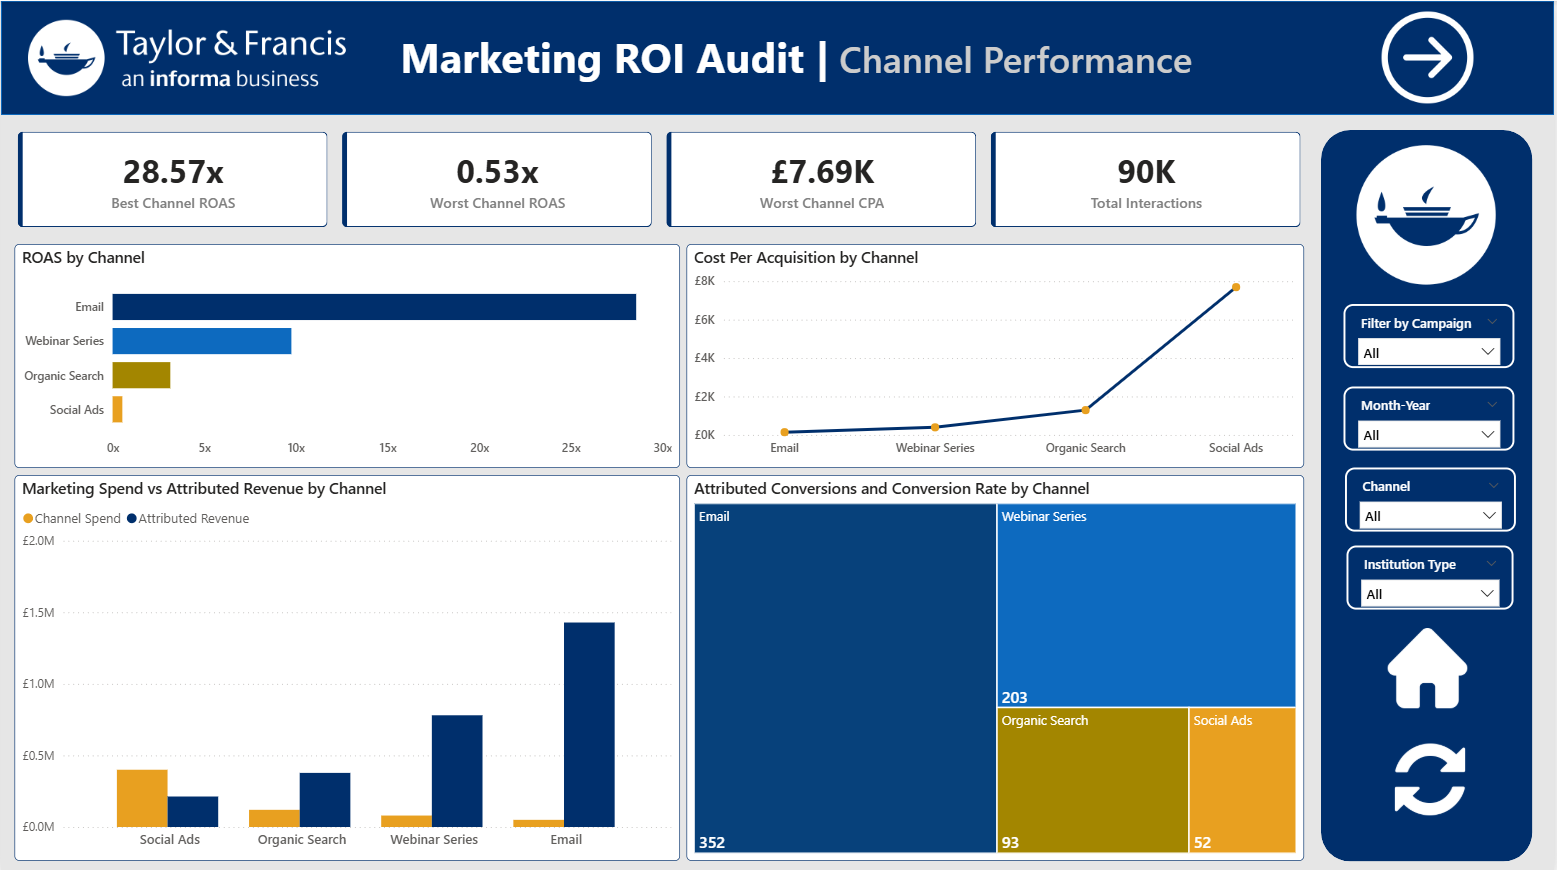

Layout of this report page (visuals, bound fields, positions):
{"tool":"powerbi","page":{"name":"Channel Performance","canvas":[1600,900],"ordinal":1},"visuals":[{"type":"shape","box":[0,0,1599.4,117.4],"z":0},{"type":"shape","box":[1359,132.5,217.7,753.3],"z":1000},{"type":"slicer","fields":{"Values":["interactions.channel"]},"box":[1383.6,480.8,176,66.2],"z":2000},{"type":"slicer","fields":{"Values":["Date_Table.Month-Year"]},"box":[1381.7,397.5,176,66.2],"z":3000},{"type":"slicer","fields":{"Values":["authors.institution_type"]},"box":[1385.5,560.3,172.2,66.2],"z":4000},{"type":"cardVisual","fields":{"Data":["_Measures.Best Channel ROAS","_Measures.Worst Channel ROAS","_Measures.Worst Channel CPA","_Measures.Total Interactions"]},"box":[0,117.4,1359,132.5],"z":5000},{"type":"clusteredBarChart","title":"ROAS by Channel","fields":{"Category":["submissions_attributed.last_touch_channel"],"Y":["_Measures.Channel ROAS"]},"box":[13.2,249.8,685.2,230.9],"z":6000},{"type":"clusteredColumnChart","title":"Marketing Spend vs Attributed Revenue by Channel","fields":{"Category":["submissions_attributed.last_touch_channel"],"Y":["_Measures.Channel Spend","_Measures.Attributed Revenue"]},"box":[13.2,488.3,685,397.5],"z":7000},{"type":"lineChart","title":"Cost Per Acquisition by Channel ","fields":{"Category":["submissions_attributed.last_touch_channel"],"Y":["_Measures.Channel CPA"]},"box":[706,249.8,636,230.9],"z":8000},{"type":"treemap","title":"Attributed Conversions and Conversion Rate by Channel","fields":{"Group":["submissions_attributed.last_touch_channel"],"Values":["CountNonNull(submissions_attributed.submission_id)"]},"box":[706,488.3,636,397.5],"z":9000},{"type":"slicer","fields":{"Values":["marketing_spend.campaign_id"]},"box":[1381.7,312.3,176,66.2],"z":10000},{"type":"image","box":[1377.9,147.6,181.7,143.8],"z":11000},{"type":"textbox","box":[406.9,22.7,840.4,71.9],"z":12000},{"type":"image","box":[28.4,0,327.4,117.4],"z":13000},{"type":"image","box":[1422.7,645.4,92.8,82.5],"z":14000},{"type":"image","box":[1414.4,764.9,113.4,74.2],"z":15000},{"type":"image","box":[1400.6,11.4,136.3,94.6],"z":16000}]}

Visuals, with their boxes in screenshot pixels (x1, y1, x2, y2), scaled from the page's 1600x900 canvas onto the 1557x870 screenshot:
shape: bbox(0, 0, 1556, 113)
shape: bbox(1322, 128, 1534, 856)
slicer - interactions.channel: bbox(1346, 465, 1518, 529)
slicer - Date_Table.Month-Year: bbox(1345, 384, 1516, 448)
slicer - authors.institution_type: bbox(1348, 542, 1516, 606)
cardVisual - _Measures.Best Channel ROAS x _Measures.Worst Channel ROAS: bbox(0, 113, 1322, 242)
"ROAS by Channel" clusteredBarChart: bbox(13, 241, 680, 465)
"Marketing Spend vs Attributed Revenue by Channel" clusteredColumnChart: bbox(13, 472, 679, 856)
"Cost Per Acquisition by Channel " lineChart: bbox(687, 241, 1306, 465)
"Attributed Conversions and Conversion Rate by Channel" treemap: bbox(687, 472, 1306, 856)
slicer - marketing_spend.campaign_id: bbox(1345, 302, 1516, 366)
image: bbox(1341, 143, 1518, 282)
textbox: bbox(396, 22, 1214, 91)
image: bbox(28, 0, 346, 113)
image: bbox(1384, 624, 1475, 704)
image: bbox(1376, 739, 1487, 811)
image: bbox(1363, 11, 1496, 102)
